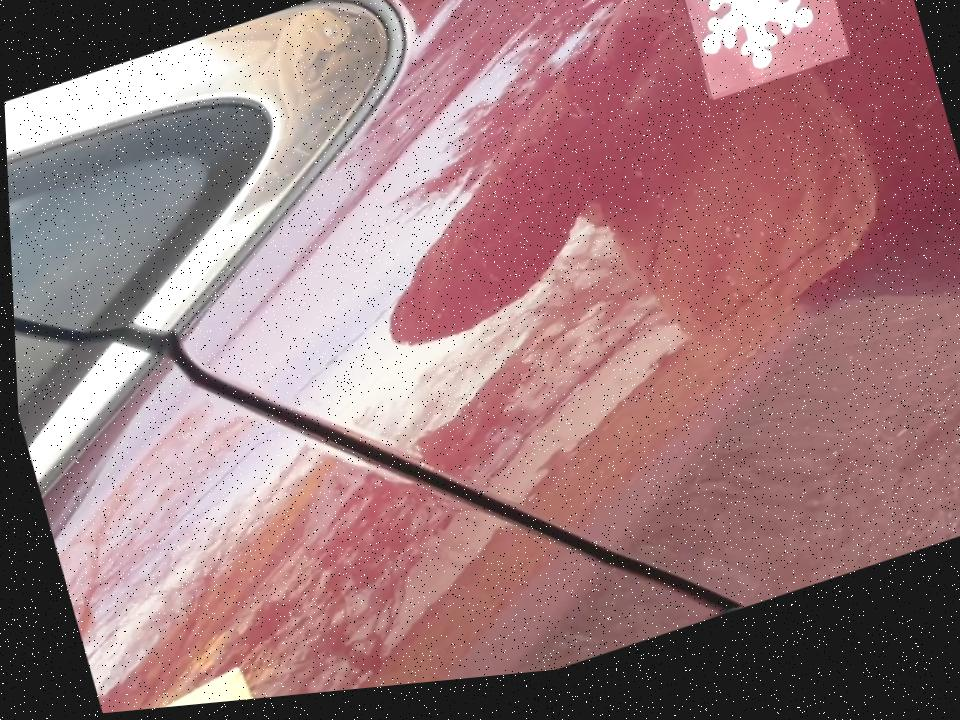dent: (673, 0, 850, 117)
